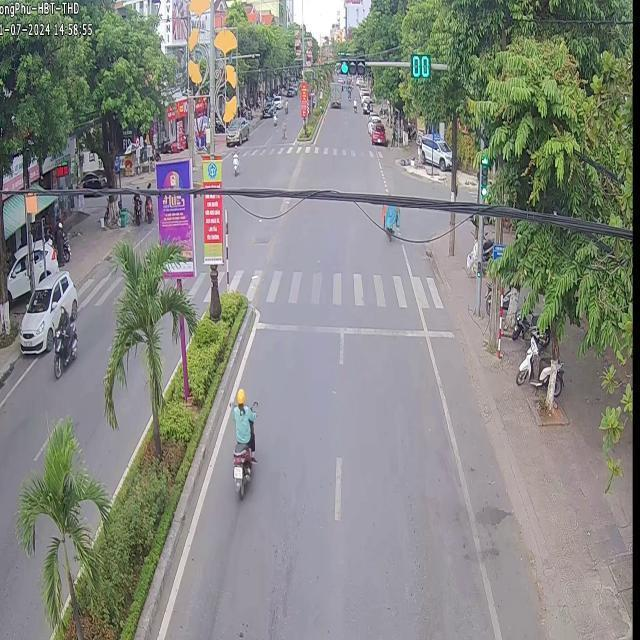car: (18, 269, 76, 351)
green_light: (410, 53, 431, 80), (339, 58, 365, 77), (479, 150, 487, 194)
motobike: (52, 305, 76, 375), (230, 440, 249, 498), (380, 202, 399, 238)
stop_line: (255, 320, 453, 339)
